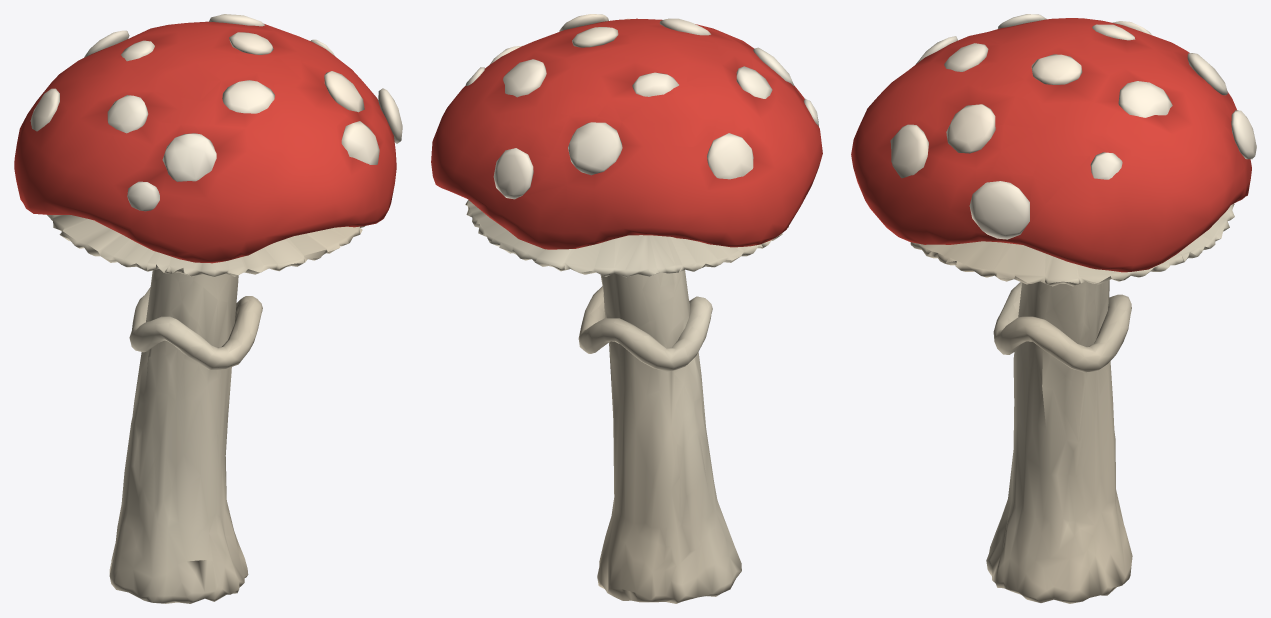
Rendered from glade_mushroom_red.glb.
3 renders of one model, left to right at view 1: azimuth 30°, elevation 25°; view 2: azimuth 150°, elevation 25°; view 3: azimuth 270°, elevation 25°, orthographic. The views are drawn at different scales.
Parts seen in each view (by area): view 1: glade_mushroom_red; view 2: glade_mushroom_red; view 3: glade_mushroom_red.
Boxes of the visible parts, left/top/right/bottom form: glade_mushroom_red: left=14, top=14, right=402, bottom=603; glade_mushroom_red: left=431, top=14, right=822, bottom=603; glade_mushroom_red: left=851, top=14, right=1256, bottom=603.
Bounding box in the file's own units: 14.57 × 22 × 14.73.
